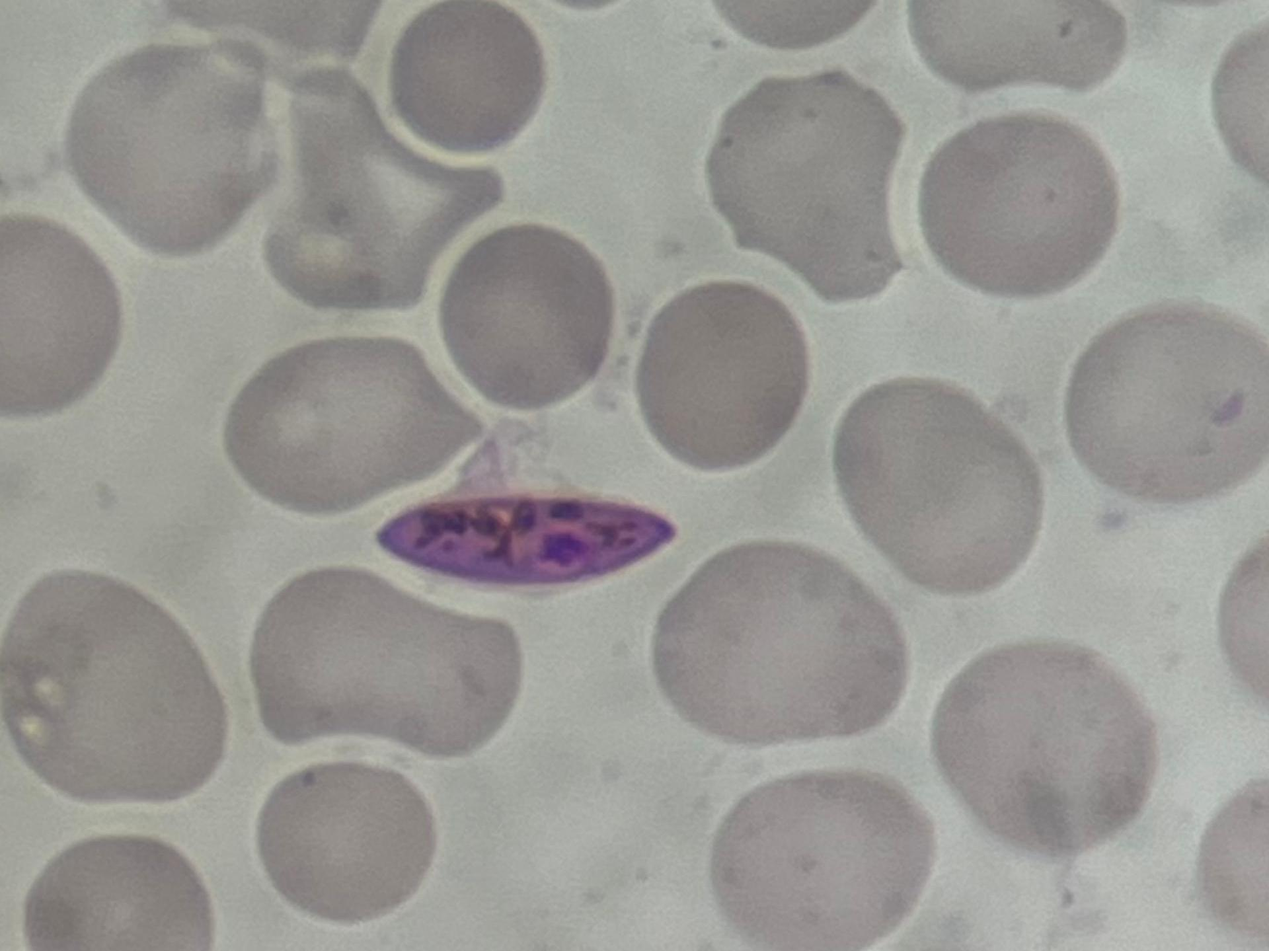Infected: (375, 490, 681, 592)
Uninfected: (264, 65, 499, 314), (652, 538, 915, 746), (251, 567, 527, 758), (2, 573, 229, 805), (932, 635, 1159, 858), (225, 333, 491, 520), (709, 71, 906, 304), (66, 36, 270, 259), (837, 377, 1040, 590), (1066, 305, 1269, 505), (714, 770, 936, 951), (916, 113, 1121, 301), (639, 283, 814, 475), (436, 228, 620, 409), (260, 761, 439, 918), (0, 219, 128, 420), (390, 1, 549, 155), (31, 838, 217, 951)
